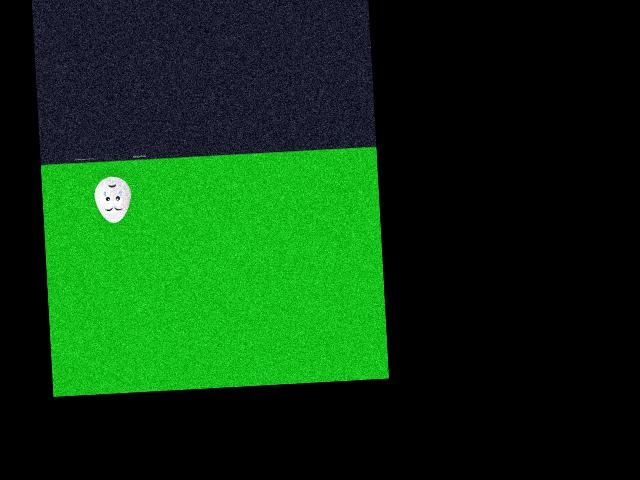egg: (93, 175, 132, 223)
